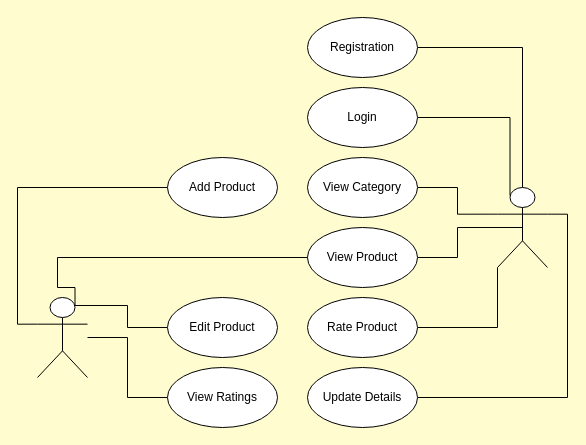
This 586x445 diagram has some shape labels left out. Each missing label, with the centre of its shape:
"ADMIN" belongs at point (62, 337).
"USER" belongs at point (522, 227).
